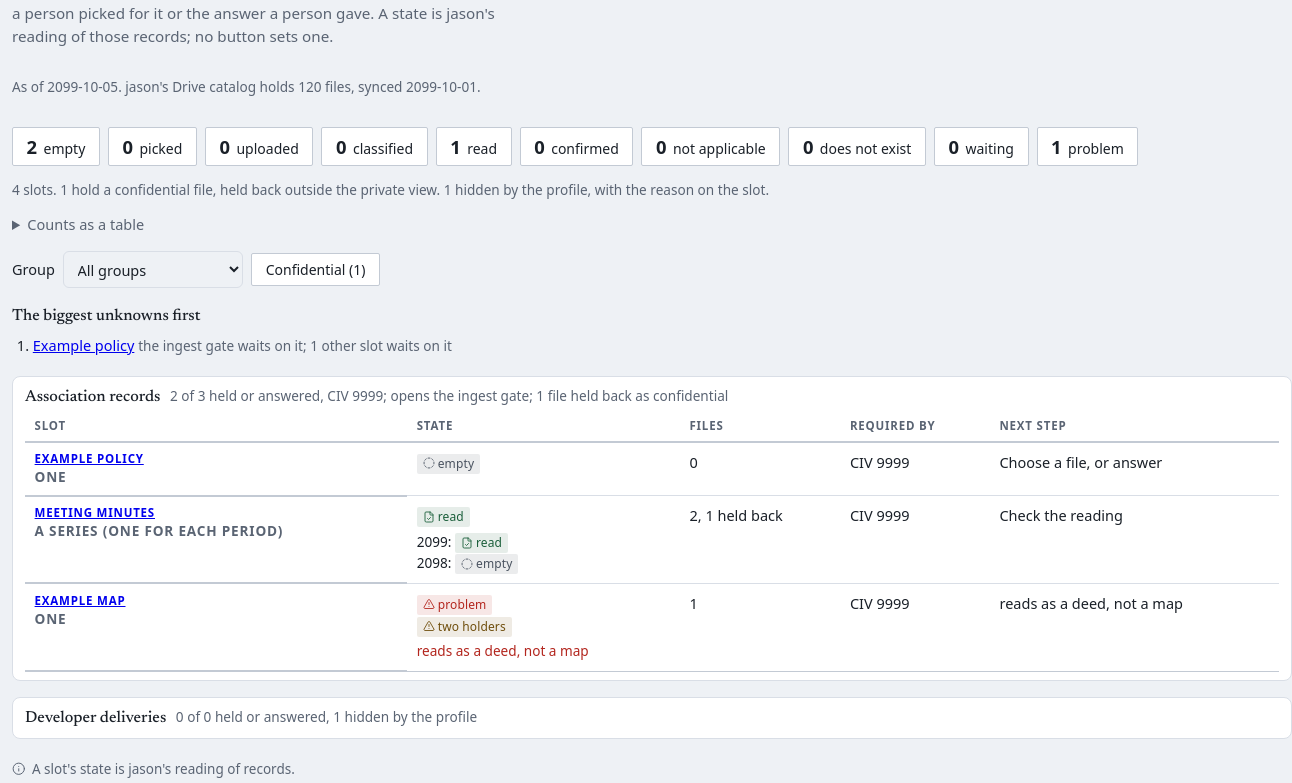
Test case: the checklist › says what the profile hid, and what a slot with no law is
This screenshot has width=1292, height=783.
(page scrolled)
Expected: the table named "Association records" is shown, [25, 409, 1279, 672]
Click the heading "Developer deliveries": (96, 718) [25, 706, 166, 730]
(page scrolled)
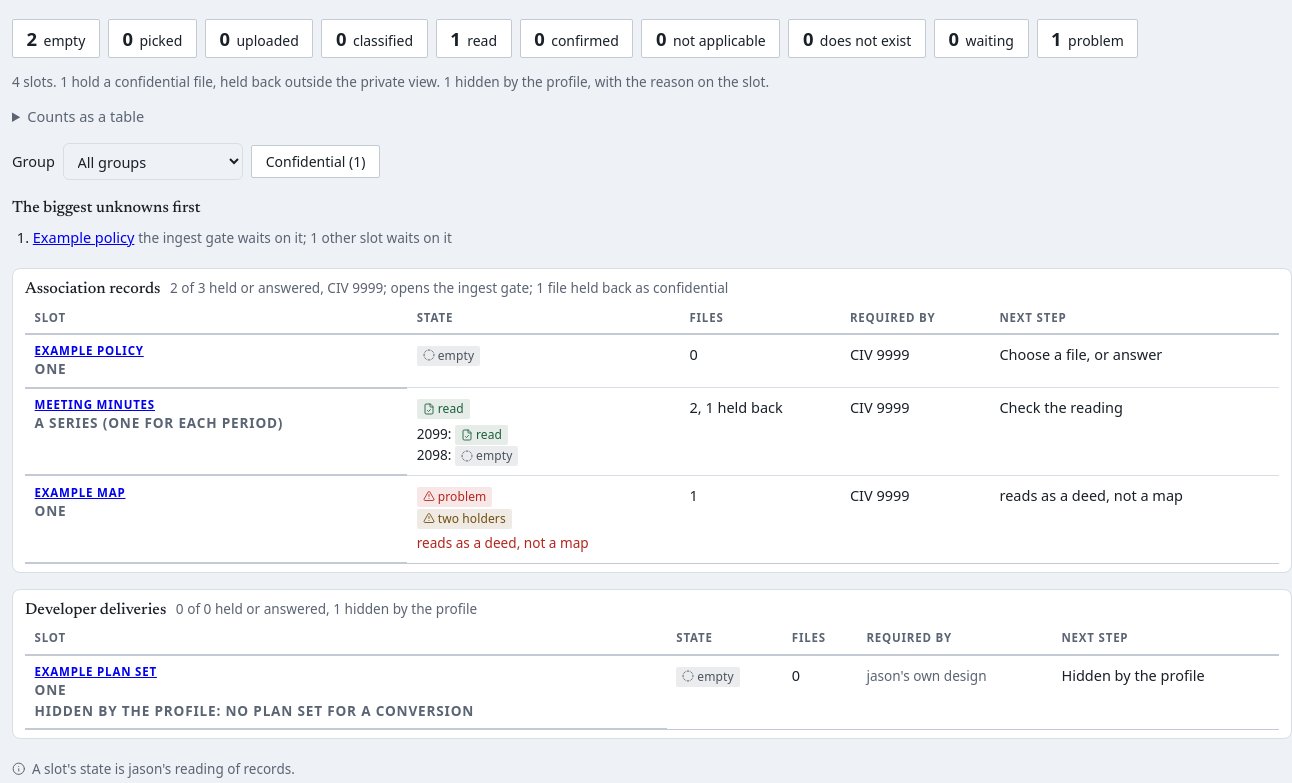
Result: the text "hidden by the profile: no plan set for a conversion" is shown at [35, 701, 474, 720]
Result: the text "jason's own design" is shown at [866, 666, 987, 684]
